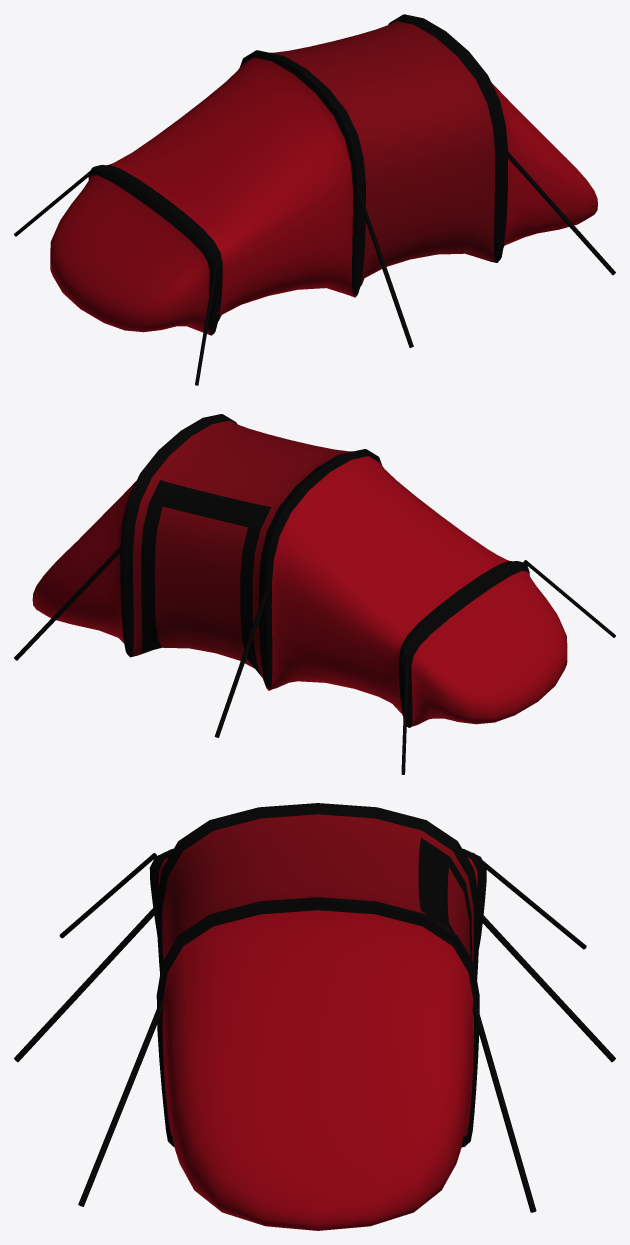
Rendered from Snow_Tent_2.fbx.
3 renders of one model, top to bottom at view 1: azimuth 30°, elevation 25°; view 2: azimuth 150°, elevation 25°; view 3: azimuth 270°, elevation 25°, orthographic. The views are drawn at different scales.
Parts seen in each view (by area): view 1: Cube.052; view 2: Cube.052; view 3: Cube.052.
Part boxes in pixels (bbox=[...]): Cube.052: bbox=[14, 14, 615, 385]; Cube.052: bbox=[14, 414, 615, 774]; Cube.052: bbox=[14, 803, 615, 1230].
Bounding box in the file's own units: 681 × 260 × 542.
